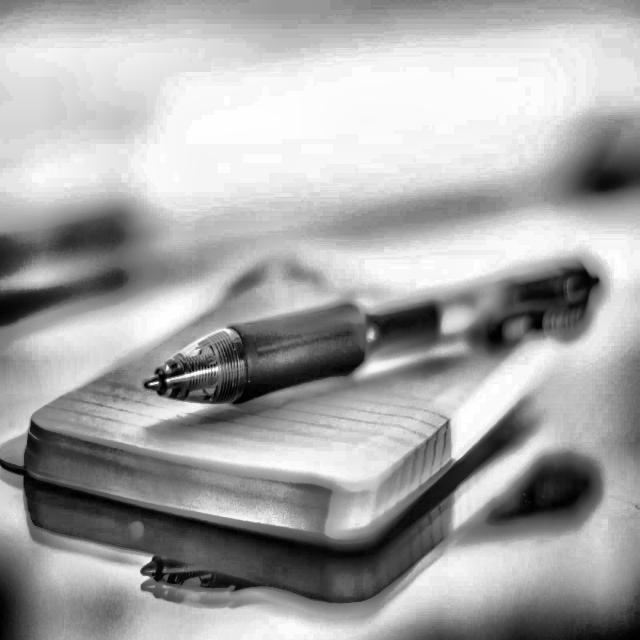Notebook: (9, 243, 625, 563)
Pen: (151, 282, 588, 414)
